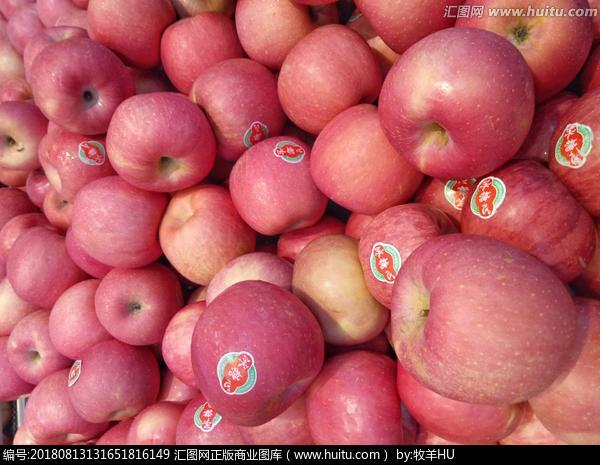apple: (395, 234, 574, 402), (377, 23, 535, 182), (192, 280, 324, 427), (447, 157, 595, 284), (432, 3, 596, 101), (309, 105, 422, 217), (277, 22, 384, 135), (104, 91, 216, 195), (290, 230, 387, 350), (157, 183, 257, 284), (191, 59, 286, 163), (230, 137, 329, 236), (32, 39, 133, 136), (302, 347, 403, 442), (77, 175, 168, 267), (66, 340, 161, 422), (158, 12, 245, 94), (95, 268, 185, 346), (25, 368, 107, 443), (6, 227, 81, 307), (234, 1, 311, 70), (4, 308, 69, 387)
